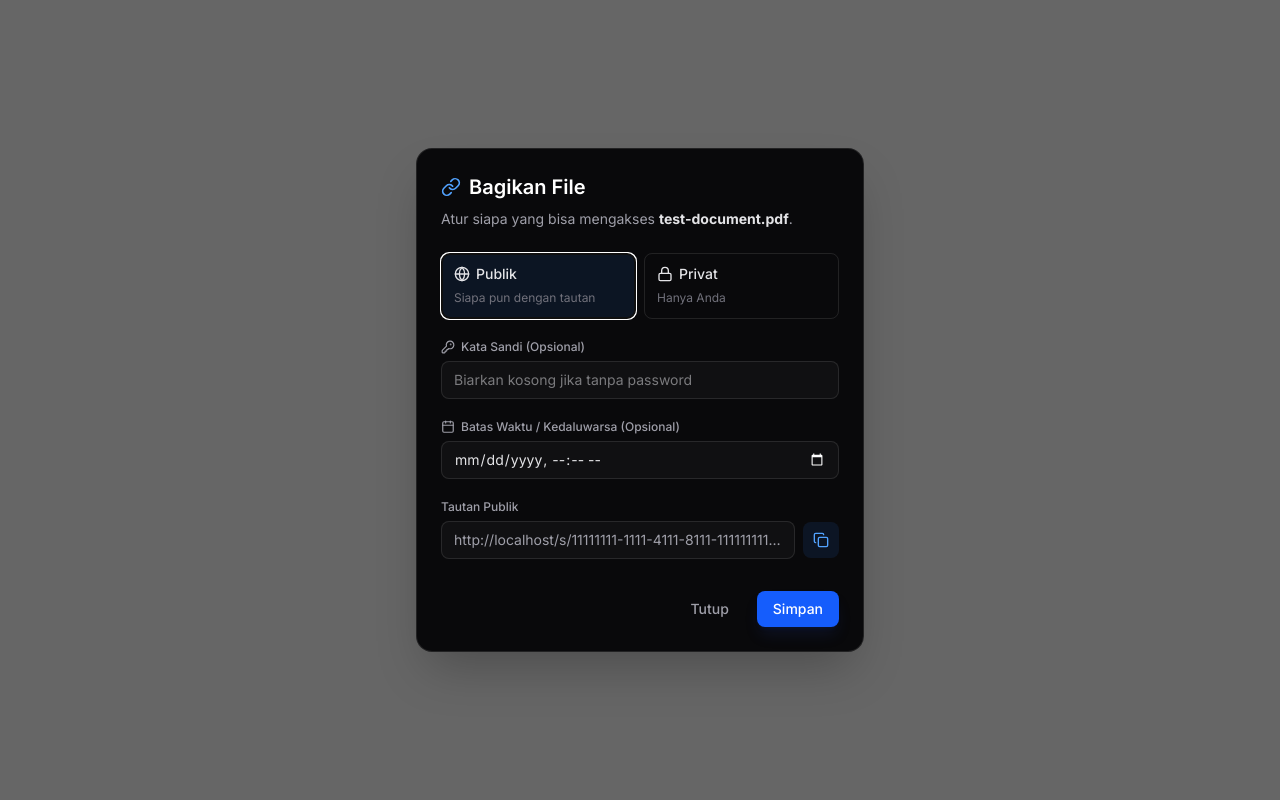
Test case: ShareDialog › menyimpan password ke backend (bukan sekadar menutup dialog)
The width and height of the screenshot is (1280, 800).
Type "rahasia123" into the password field labelled "Kata Sandi (Opsional)" at x=640, y=380, box [441, 361, 839, 399]
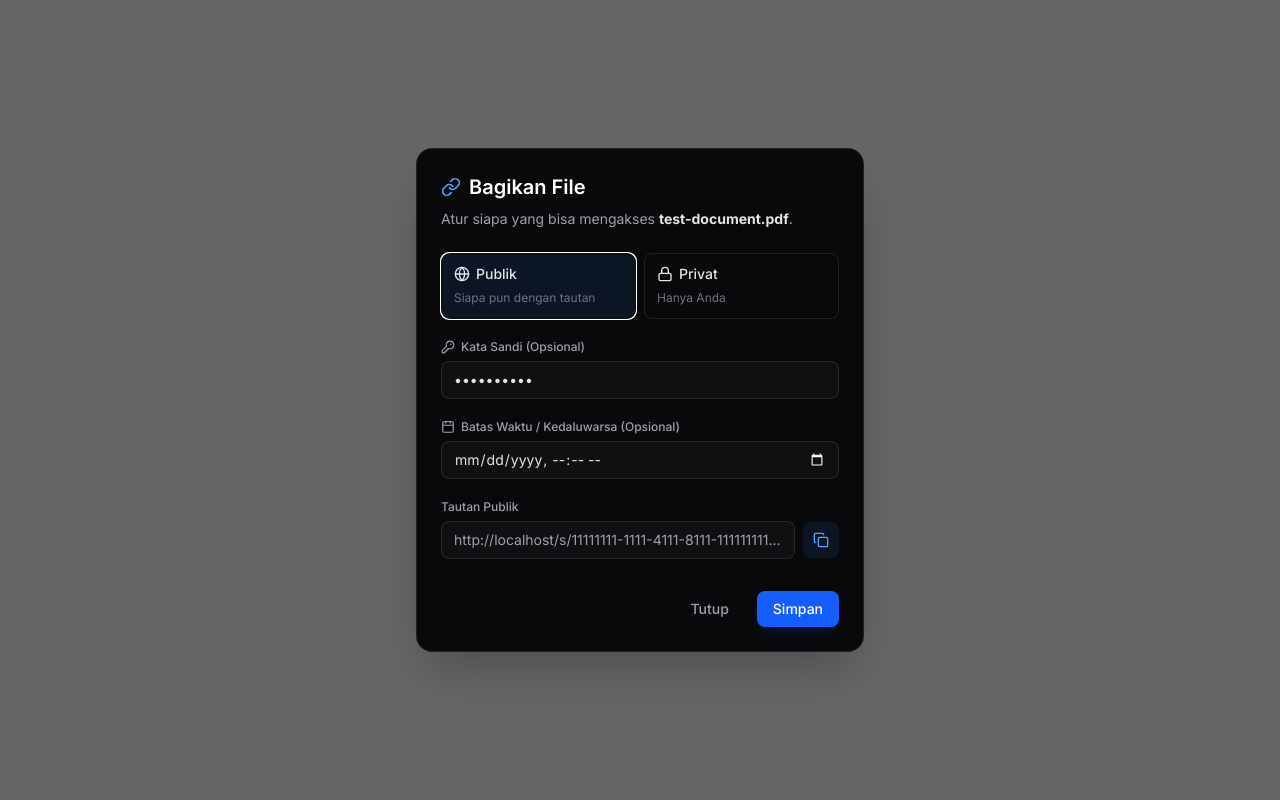
Click the button "Simpan" at x=798, y=609, box [757, 591, 839, 627]
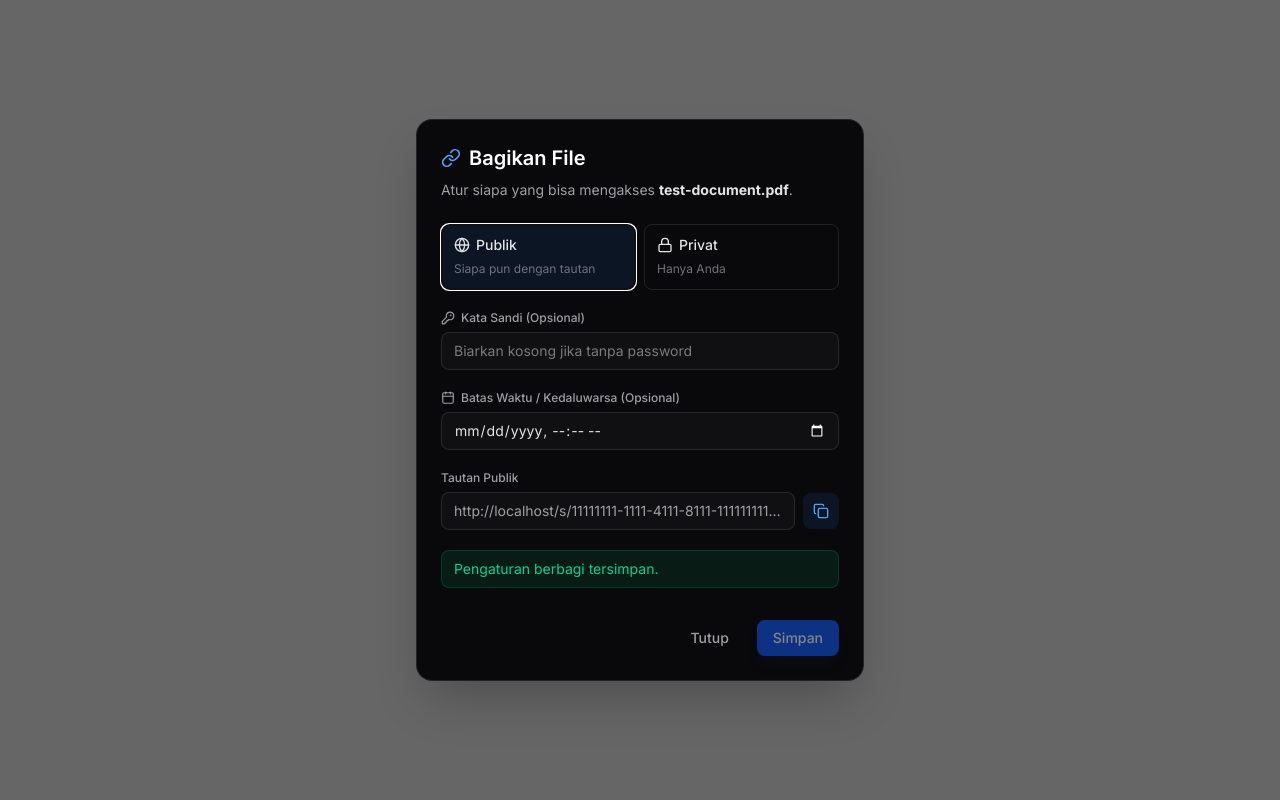
Check: the text "Pengaturan berbagi tersimpan." is shown, box [441, 550, 839, 588]
